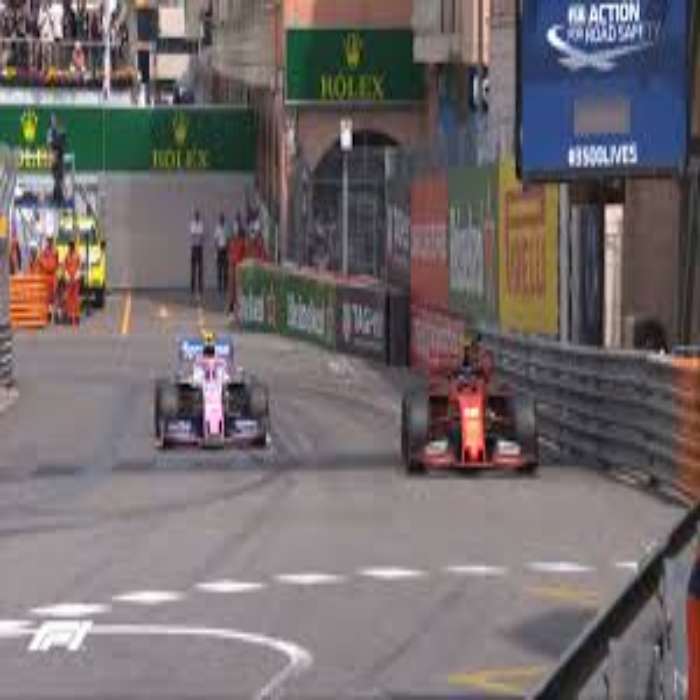f1_car: (389, 331, 574, 513), (136, 324, 291, 481)
